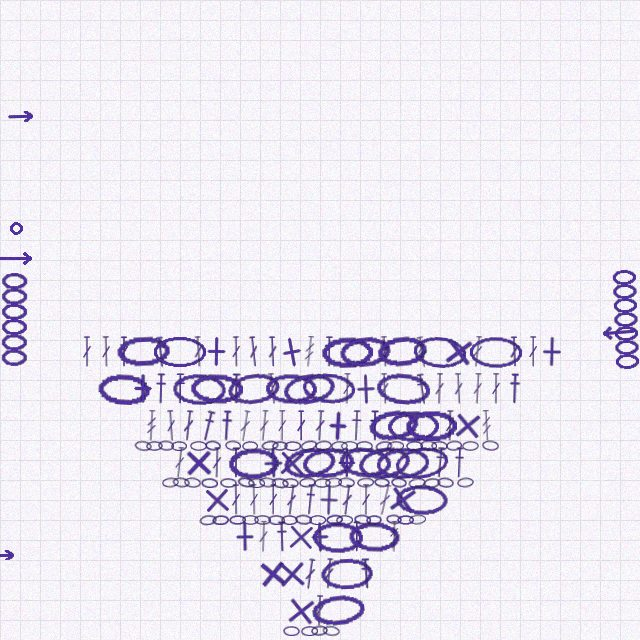chain: (281, 369, 338, 409), (393, 443, 451, 482), (356, 443, 413, 482), (282, 444, 338, 482), (226, 370, 281, 408), (310, 592, 366, 629), (367, 407, 421, 444), (301, 445, 356, 481), (338, 334, 393, 370), (412, 334, 467, 370), (375, 371, 431, 406), (338, 445, 393, 480), (301, 371, 356, 406), (375, 446, 431, 480), (376, 334, 429, 369), (97, 372, 150, 406), (116, 335, 170, 368), (320, 557, 373, 590), (395, 484, 449, 516), (172, 373, 226, 405), (469, 336, 523, 368), (348, 521, 401, 553), (190, 373, 243, 405), (265, 373, 318, 405), (153, 336, 207, 367), (312, 521, 364, 553), (228, 447, 280, 479), (387, 410, 439, 442), (321, 336, 373, 368), (405, 410, 457, 441), (237, 476, 255, 489), (300, 439, 318, 452), (322, 625, 340, 637), (199, 514, 217, 526), (271, 477, 289, 489), (408, 477, 426, 489), (423, 477, 441, 489), (134, 440, 152, 452), (375, 440, 393, 452), (172, 477, 190, 488), (261, 440, 279, 451), (311, 625, 328, 636), (295, 514, 312, 525), (326, 514, 343, 525), (354, 514, 371, 525), (409, 514, 426, 525), (162, 477, 179, 488), (184, 477, 201, 488), (259, 477, 276, 488), (299, 477, 316, 488), (325, 477, 342, 488), (338, 477, 355, 488), (357, 477, 374, 488), (437, 477, 454, 488), (457, 477, 474, 488), (315, 440, 332, 451), (420, 440, 437, 451), (482, 440, 499, 451), (386, 514, 402, 525), (374, 477, 390, 488), (391, 477, 407, 488), (158, 440, 174, 451), (205, 440, 221, 451), (225, 440, 241, 451), (446, 440, 462, 451), (283, 626, 300, 636), (301, 626, 318, 636), (212, 515, 229, 525), (229, 515, 246, 525), (242, 515, 259, 525), (254, 515, 271, 525), (268, 515, 285, 525), (281, 515, 298, 525), (309, 515, 326, 525), (336, 515, 353, 525), (397, 515, 414, 525), (201, 478, 218, 488), (220, 478, 237, 488), (248, 478, 265, 488), (282, 478, 299, 488), (314, 478, 331, 488), (146, 441, 163, 451), (190, 441, 207, 451), (284, 441, 301, 451), (331, 441, 348, 451), (341, 441, 358, 451), (356, 441, 373, 451), (387, 441, 404, 451), (406, 441, 423, 451), (431, 441, 448, 451), (462, 441, 479, 451), (366, 515, 382, 525), (171, 441, 187, 451), (242, 441, 258, 451), (272, 441, 288, 451)
double: (377, 484, 393, 516), (303, 558, 317, 590), (340, 484, 354, 516), (238, 410, 252, 442), (285, 484, 298, 516), (173, 447, 186, 478), (182, 410, 195, 441), (266, 373, 279, 404), (247, 336, 260, 367), (471, 336, 484, 367), (323, 558, 335, 589), (165, 410, 177, 441), (258, 410, 270, 441), (314, 410, 326, 441), (314, 595, 325, 626), (258, 521, 269, 552), (379, 373, 390, 404), (434, 373, 445, 404), (453, 373, 464, 404), (472, 373, 483, 404), (193, 336, 204, 367), (267, 336, 278, 367), (379, 336, 390, 367), (509, 336, 520, 367), (231, 484, 241, 515), (249, 484, 259, 515), (268, 484, 278, 515), (361, 484, 371, 515), (212, 447, 222, 478), (277, 410, 287, 441), (296, 410, 306, 441), (445, 410, 455, 441), (342, 373, 352, 404), (491, 373, 501, 404), (82, 336, 92, 367), (101, 336, 111, 367), (119, 336, 129, 367), (231, 336, 241, 367), (528, 336, 538, 367)
enseble_chain: (610, 269, 640, 371), (0, 272, 29, 368)
half_double: (199, 410, 217, 442), (414, 373, 430, 405), (153, 336, 168, 368), (359, 558, 373, 589), (303, 484, 317, 515), (433, 447, 447, 478), (220, 410, 233, 441), (350, 410, 363, 441), (508, 373, 521, 404), (276, 521, 288, 552), (230, 447, 242, 478), (453, 447, 465, 478), (369, 410, 381, 441), (155, 373, 167, 404), (174, 373, 186, 404), (230, 373, 242, 404), (323, 336, 335, 367), (351, 521, 362, 552)
noise: (600, 324, 635, 340), (0, 251, 34, 265), (7, 111, 35, 122), (8, 220, 25, 237), (0, 550, 16, 560)
single: (274, 334, 310, 370), (385, 482, 420, 517), (441, 334, 476, 369), (284, 594, 318, 628), (256, 557, 289, 590), (451, 409, 484, 442), (276, 558, 308, 590), (285, 521, 317, 553), (304, 521, 336, 553), (201, 484, 233, 516), (313, 484, 345, 516), (257, 447, 289, 479), (276, 447, 308, 479), (322, 410, 354, 442), (350, 373, 382, 405), (229, 521, 260, 552), (183, 447, 214, 478), (331, 447, 362, 478), (201, 336, 232, 367), (536, 336, 567, 367), (128, 373, 158, 404)
treble: (415, 336, 429, 368), (303, 336, 316, 367), (146, 410, 157, 441), (481, 410, 492, 441), (389, 521, 399, 552)
